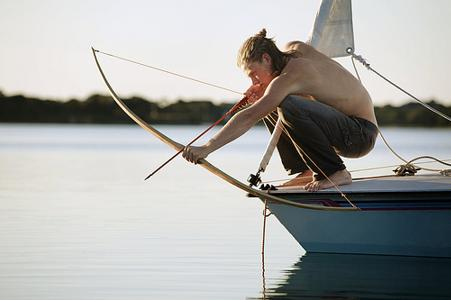person: (178, 32, 382, 194)
